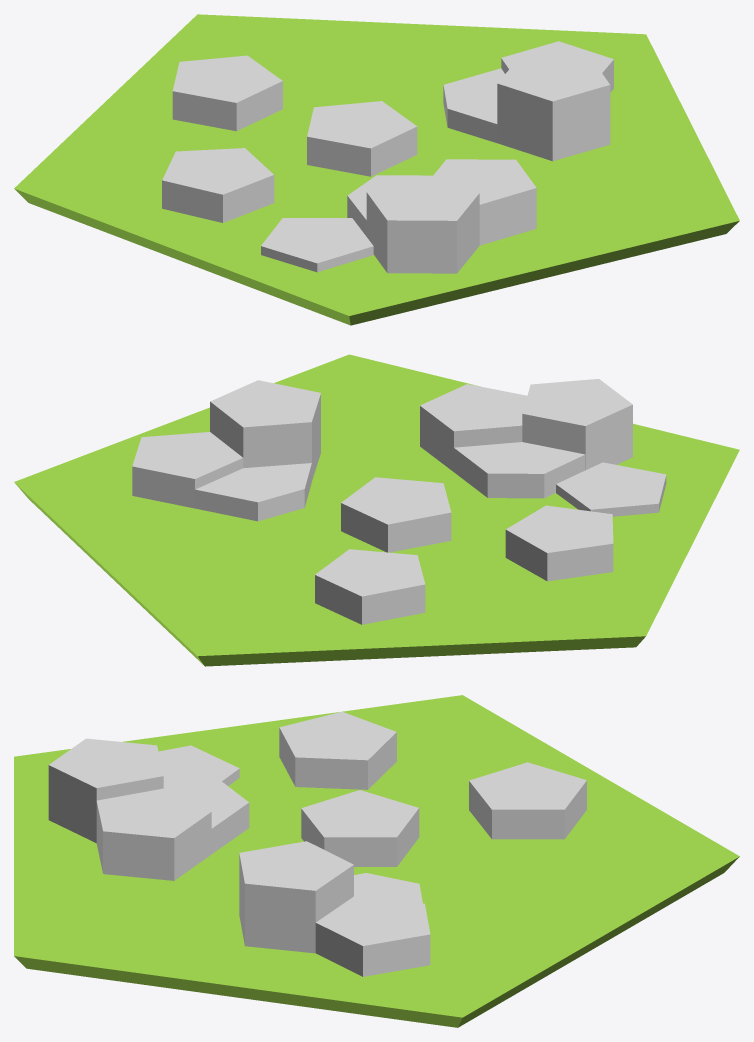
The model's file is TuileRock2.fbx.
3 renders of one model, top to bottom at view 1: azimuth 30°, elevation 25°; view 2: azimuth 150°, elevation 25°; view 3: azimuth 270°, elevation 25°, orthographic. The views are drawn at different scales.
Visible parts, largest first — view 1: origine; view 2: origine; view 3: origine.
Part boxes in pixels (box(x1,y1,x2,y2)): origine: box(14, 14, 739, 325); origine: box(14, 354, 739, 666); origine: box(14, 695, 739, 1027).
Size of the model in its own units: 111 by 12.65 by 105.
